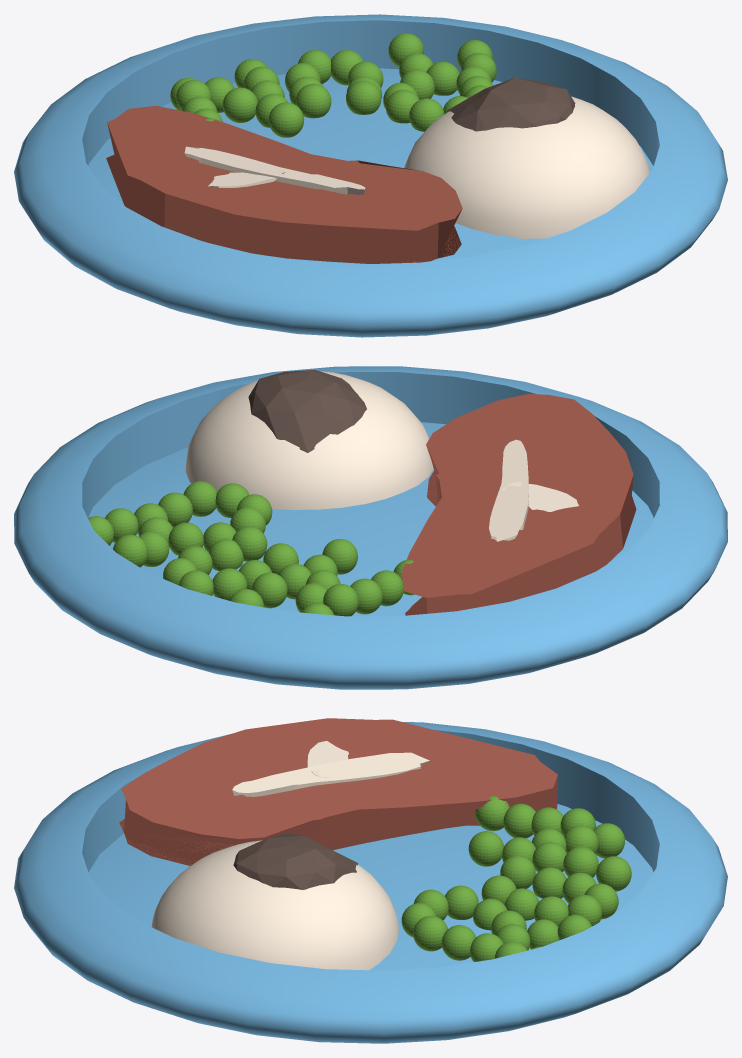
Rendered from FoodRun.fbx.
3 renders of one model, top to bottom at view 1: azimuth 30°, elevation 25°; view 2: azimuth 150°, elevation 25°; view 3: azimuth 270°, elevation 25°, orthographic.
Visible parts, largest first — view 1: Plate, Meat.002, Mash, Icosphere, pea.031, pea.001, pea.010, pea.016, pea.020, pea.008, pea, pea.021 (+9 smaller); view 2: Plate, Meat.002, Mash, Icosphere, pea.015, pea.029, pea.026, pea.001, pea.005, pea.031, pea.017, pea.007 (+16 smaller); view 3: Plate, Meat.002, Mash, Icosphere, pea.031, pea.013, pea.026, pea.030, pea, pea.028, pea.016, pea.011 (+21 smaller).
Part boxes in pixels (<box>): Plate: <box>14,14,727,337</box>; Meat.002: <box>106,105,462,263</box>; Mash: <box>404,96,649,238</box>; Icosphere: <box>447,77,575,131</box>; pea.031: <box>268,102,304,137</box>; pea.001: <box>346,80,381,114</box>; pea.010: <box>222,87,257,122</box>; pea.016: <box>295,83,331,118</box>; pea.020: <box>409,98,444,131</box>; pea.008: <box>426,61,459,95</box>; pea: <box>385,89,419,123</box>; pea.021: <box>388,33,423,67</box>; Plate: <box>14,366,727,689</box>; Meat.002: <box>401,394,636,615</box>; Mash: <box>185,371,433,509</box>; Icosphere: <box>248,370,366,452</box>; pea.015: <box>252,572,287,608</box>; pea.029: <box>323,584,358,616</box>; pea.026: <box>183,481,217,516</box>; pea.001: <box>232,526,267,561</box>; pea.005: <box>208,539,243,570</box>; pea.031: <box>322,539,357,574</box>; pea.017: <box>350,578,382,614</box>; pea.007: <box>168,522,203,555</box>; Plate: <box>14,722,727,1043</box>; Meat.002: <box>119,718,557,865</box>; Mash: <box>151,840,398,970</box>; Icosphere: <box>233,833,357,889</box>; pea.031: <box>468,831,503,866</box>; pea.013: <box>596,856,631,891</box>; pea.026: <box>413,915,447,951</box>; pea.030: <box>441,925,475,960</box>; pea: <box>445,885,478,919</box>; pea.028: <box>503,803,535,838</box>; pea.016: <box>500,855,535,888</box>; pea.011: <box>532,867,566,898</box>.
Bounding box in the file's own units: 39.97 × 9.15 × 39.97.
